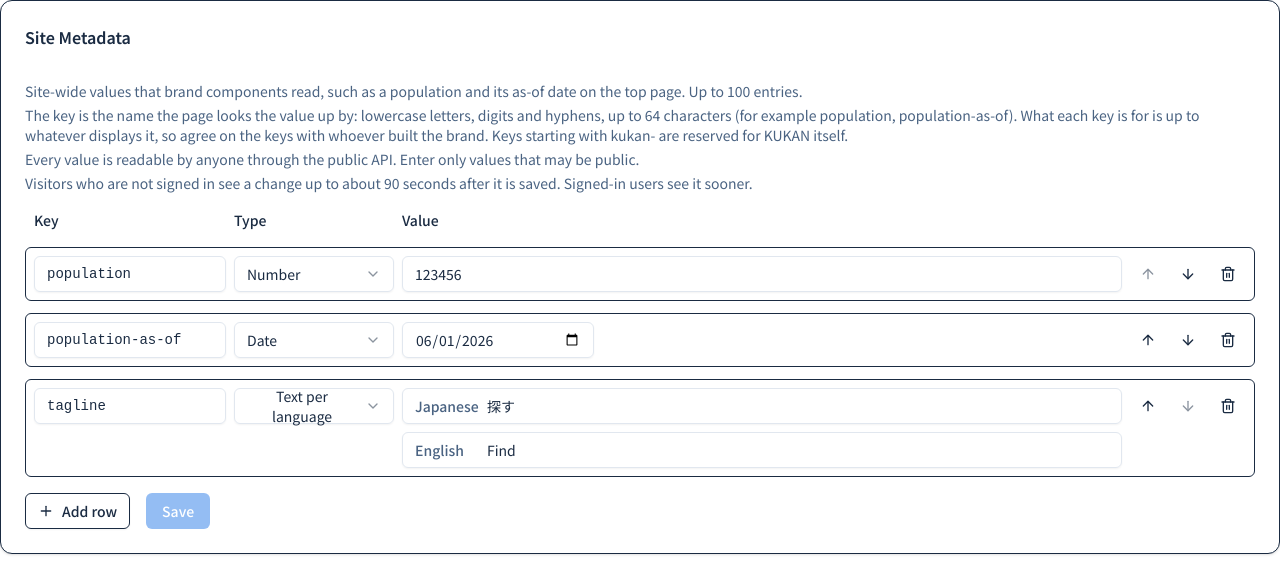
Test case: SiteMetadataCard › should save the rows in their new order
Expected: the text "Site Metadata" is shown, [25, 25, 131, 49]
Click the 1st button named "Move down": (1188, 274) [1170, 256, 1206, 292]
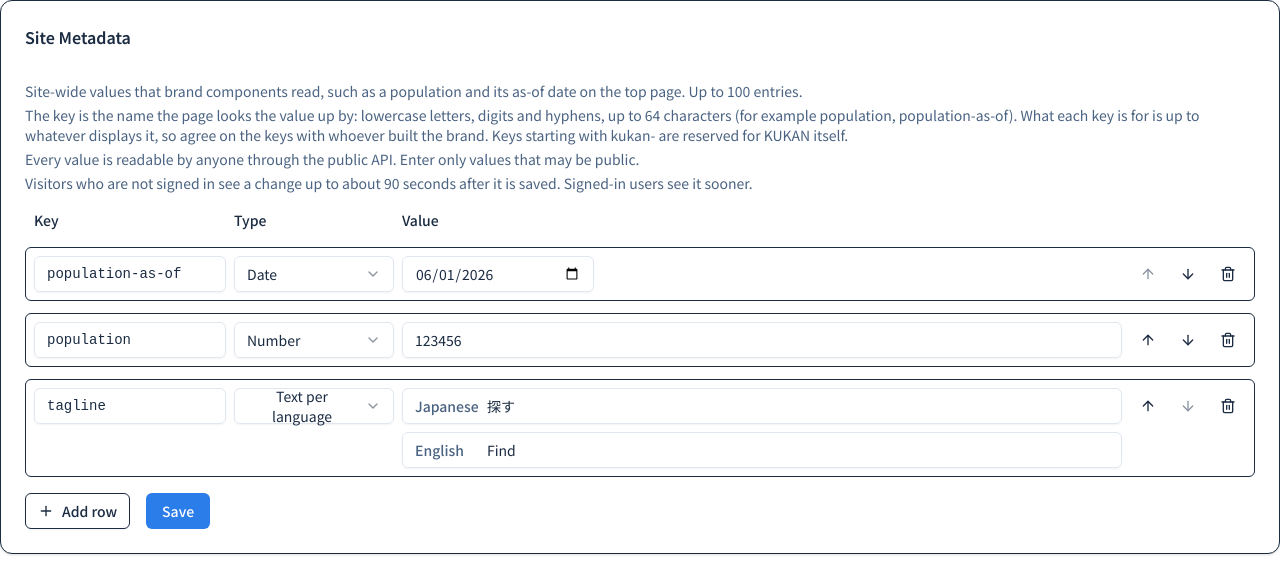
Click the button "Save": (178, 511) [146, 493, 210, 529]
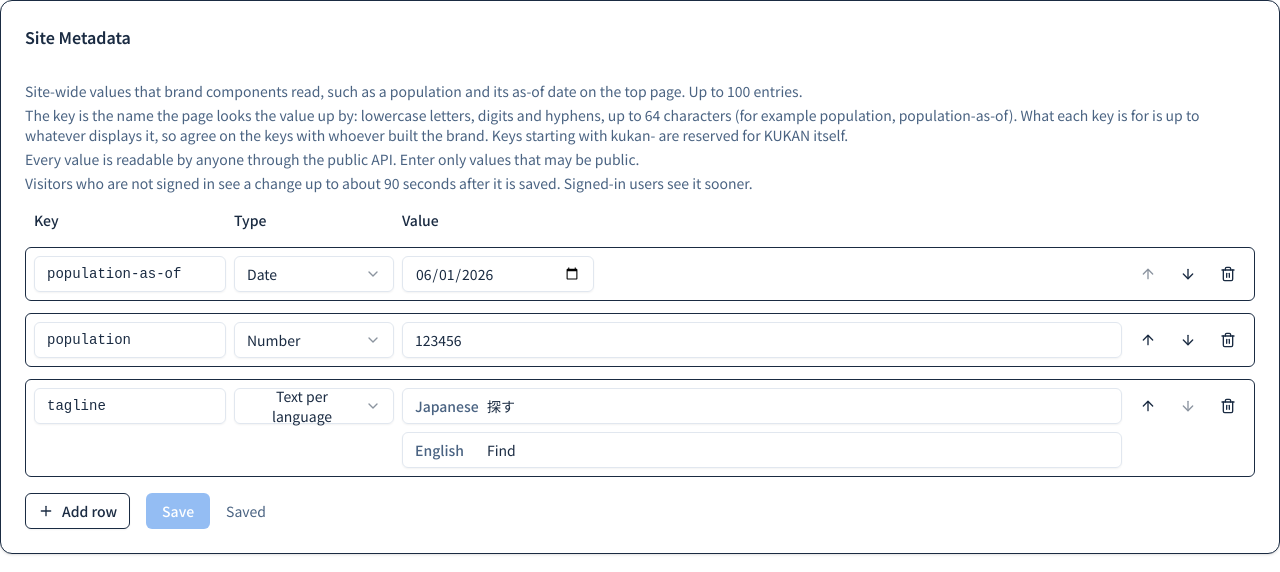
Now the message "Saved" is shown, box [226, 501, 266, 521]
